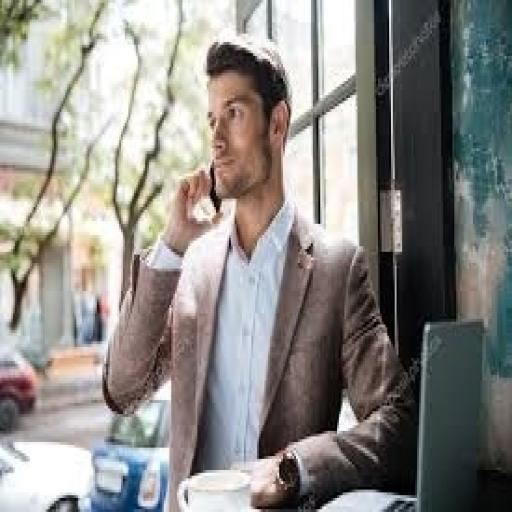calling: (100, 31, 419, 509)
